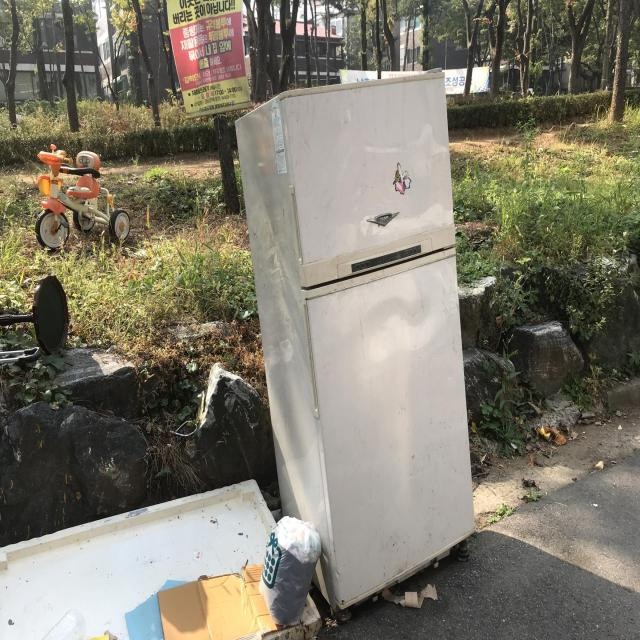refrigerator: (232, 68, 477, 611)
